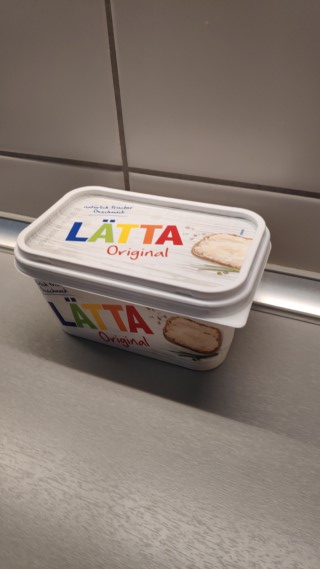laetta: (13, 183, 273, 374)
